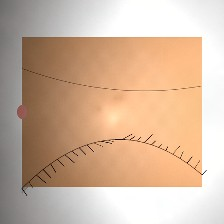pinguecula_lesion: (25, 90, 60, 118)
